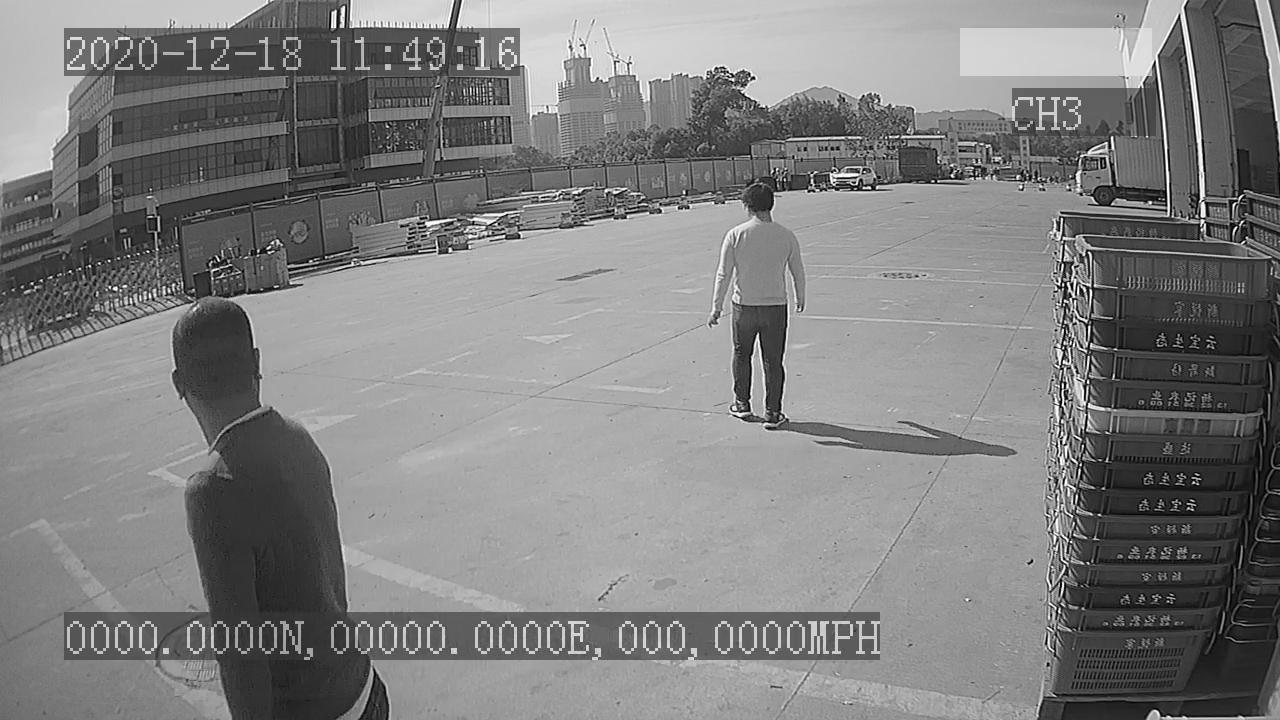person: (704, 183, 809, 436)
